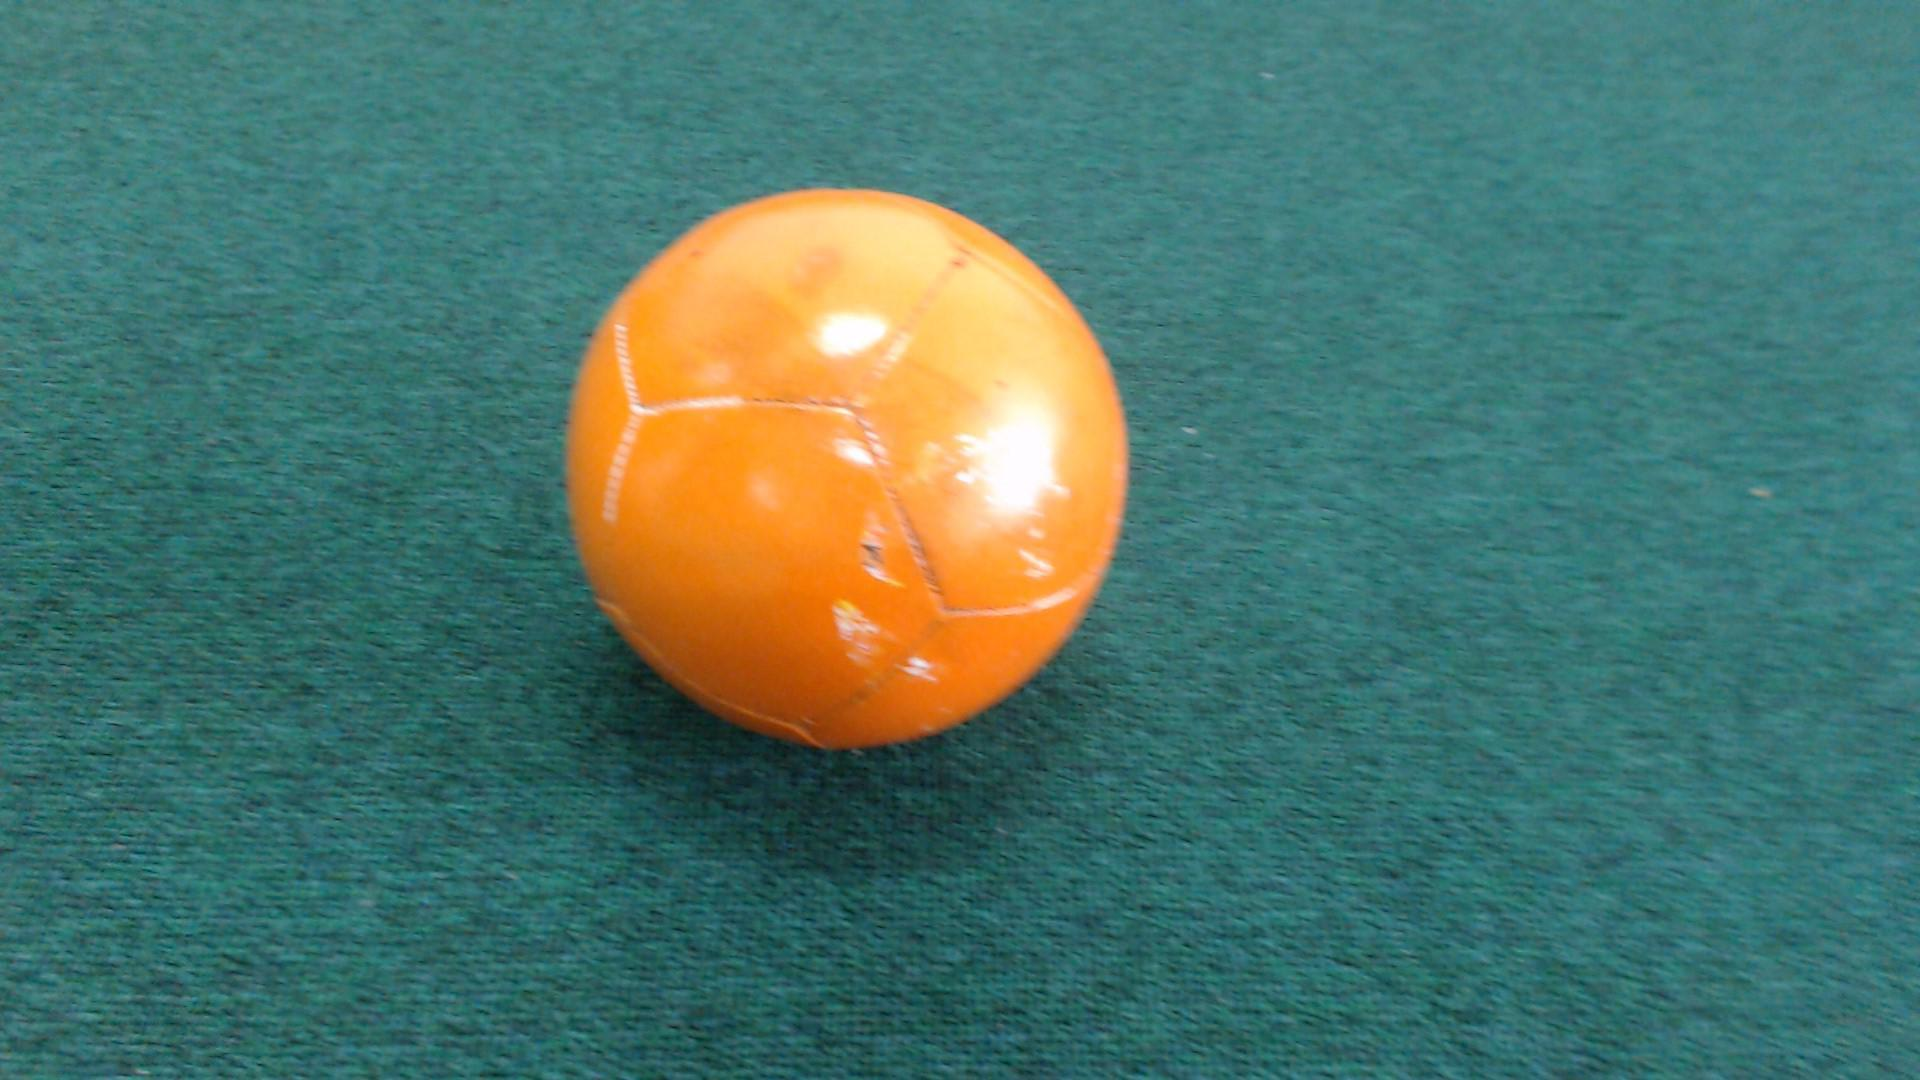bola: (513, 177, 1185, 760)
